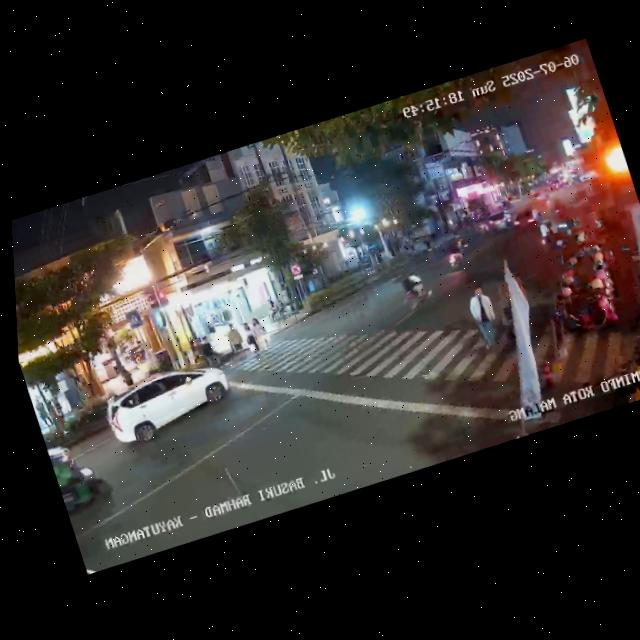car: (96, 353, 237, 456), (510, 205, 547, 236), (486, 206, 514, 234)
motorcycle: (49, 442, 118, 522), (396, 266, 437, 313), (440, 234, 472, 273), (530, 219, 558, 252)
person: (463, 281, 506, 355), (250, 315, 271, 354), (240, 321, 262, 358), (223, 322, 245, 359), (196, 334, 218, 369), (50, 391, 66, 422), (36, 399, 53, 427)
